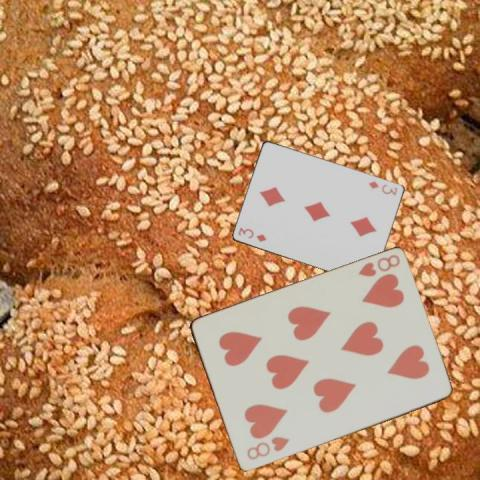3d: (365, 178, 399, 197), (235, 225, 268, 243)
8h: (243, 433, 292, 462), (355, 251, 401, 279)
